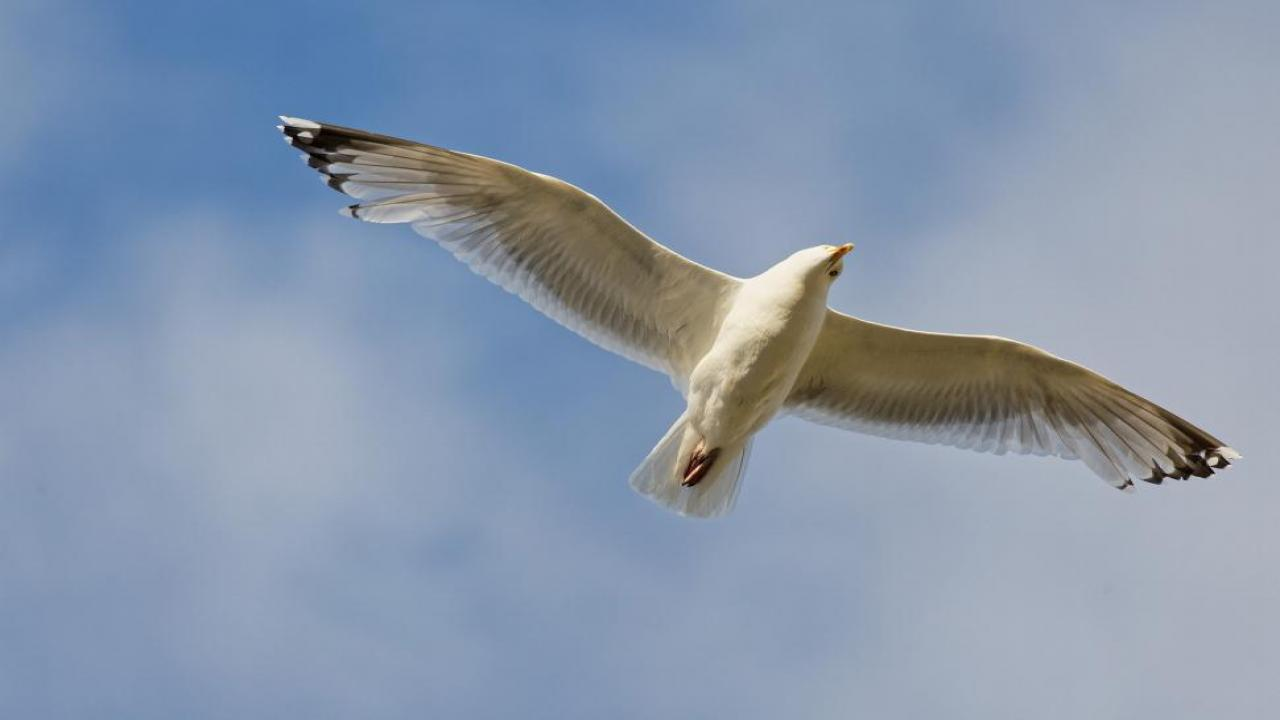Bird: (252, 97, 1252, 540)
